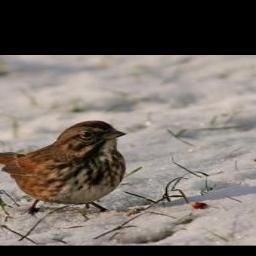Sparrow: (0, 118, 126, 216)
